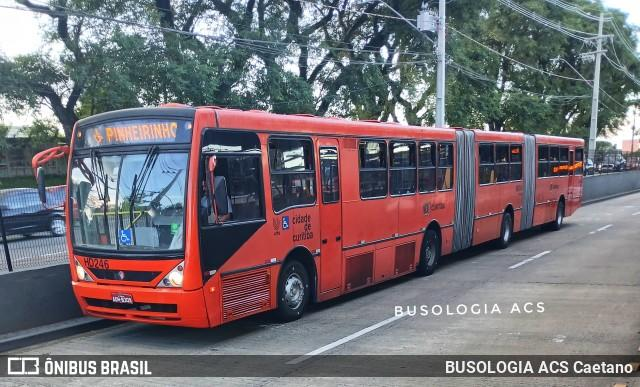PINHEIRINHO: (101, 119, 183, 145)
